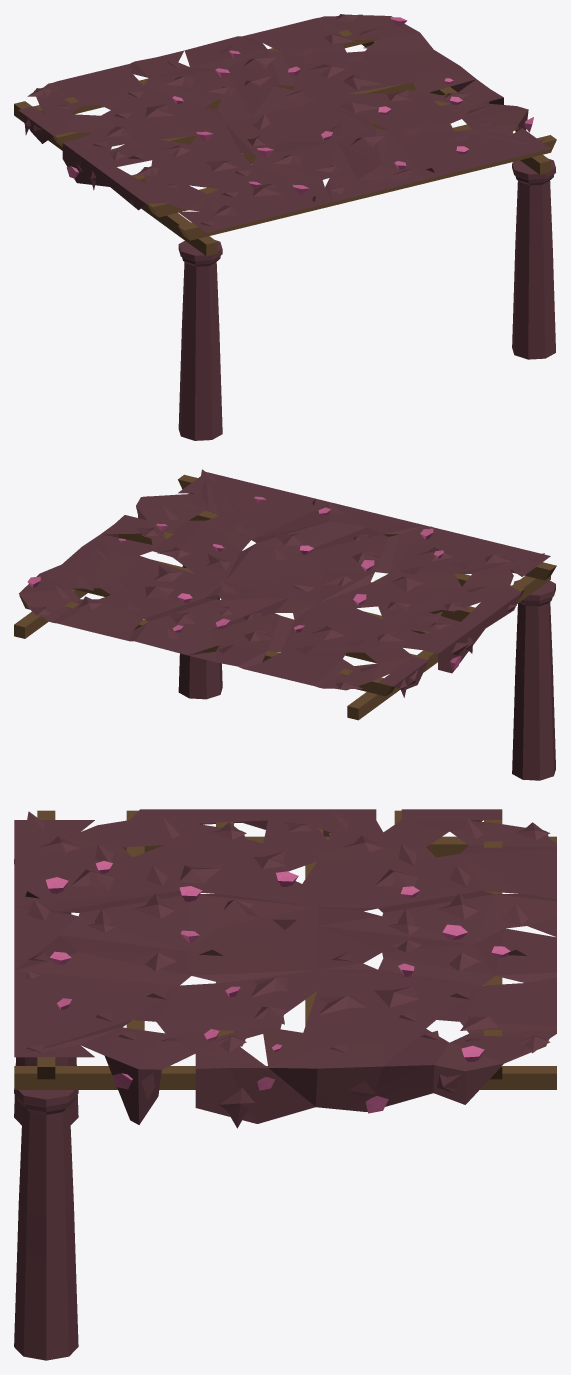
The model's file is SM_Colonnade_Ivy_Blossom_Empire.fbx.
3 renders of one model, top to bottom at view 1: azimuth 30°, elevation 25°; view 2: azimuth 150°, elevation 25°; view 3: azimuth 270°, elevation 25°, orthographic. The views are drawn at different scales.
Visible parts, largest first — view 1: SM_Colonnade_Ivy_Blossom_Empire; view 2: SM_Colonnade_Ivy_Blossom_Empire; view 3: SM_Colonnade_Ivy_Blossom_Empire.
Boxes of the visible parts, x1,y1,x2,y2 form: SM_Colonnade_Ivy_Blossom_Empire: [14, 14, 556, 440]; SM_Colonnade_Ivy_Blossom_Empire: [14, 469, 556, 780]; SM_Colonnade_Ivy_Blossom_Empire: [14, 809, 556, 1360].
Bounding box in the file's own units: 7.03 × 3.75 × 6.
